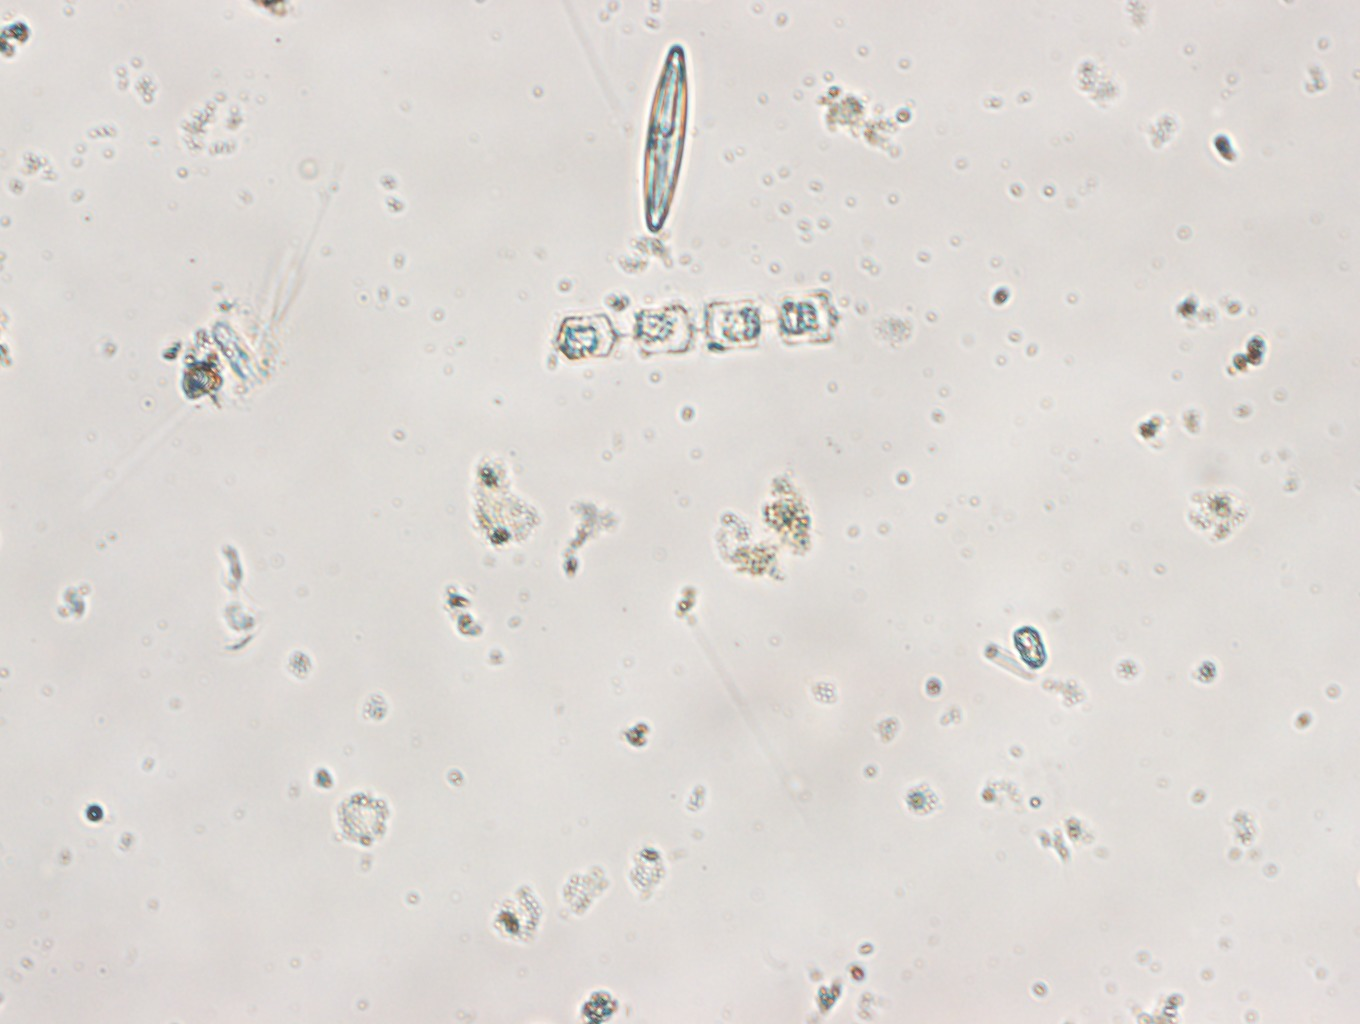chaetoceros: (554, 289, 839, 365)
navicula: (643, 44, 691, 234)
